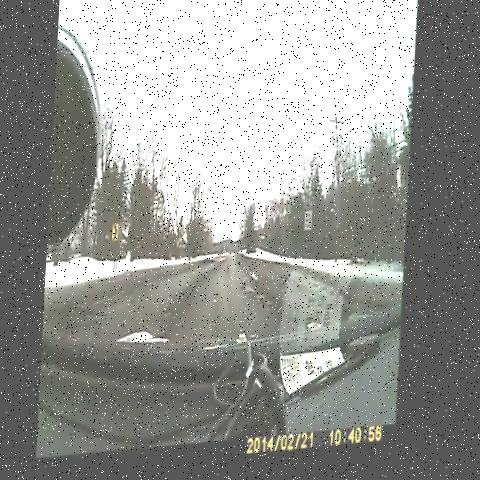pothole: (156, 304, 190, 335), (174, 275, 202, 310)
